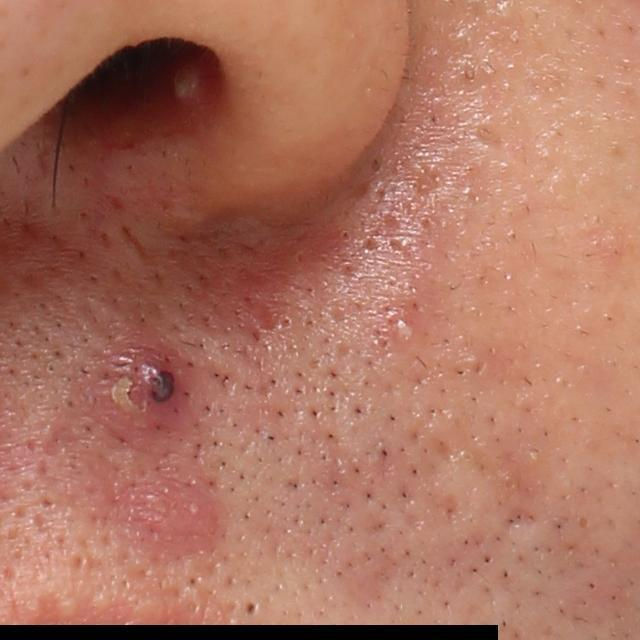atrophic_scar: (468, 443, 555, 508), (502, 502, 542, 537), (124, 225, 151, 263)
papule: (122, 455, 227, 564), (95, 336, 202, 440)
pustule: (382, 311, 422, 348)
